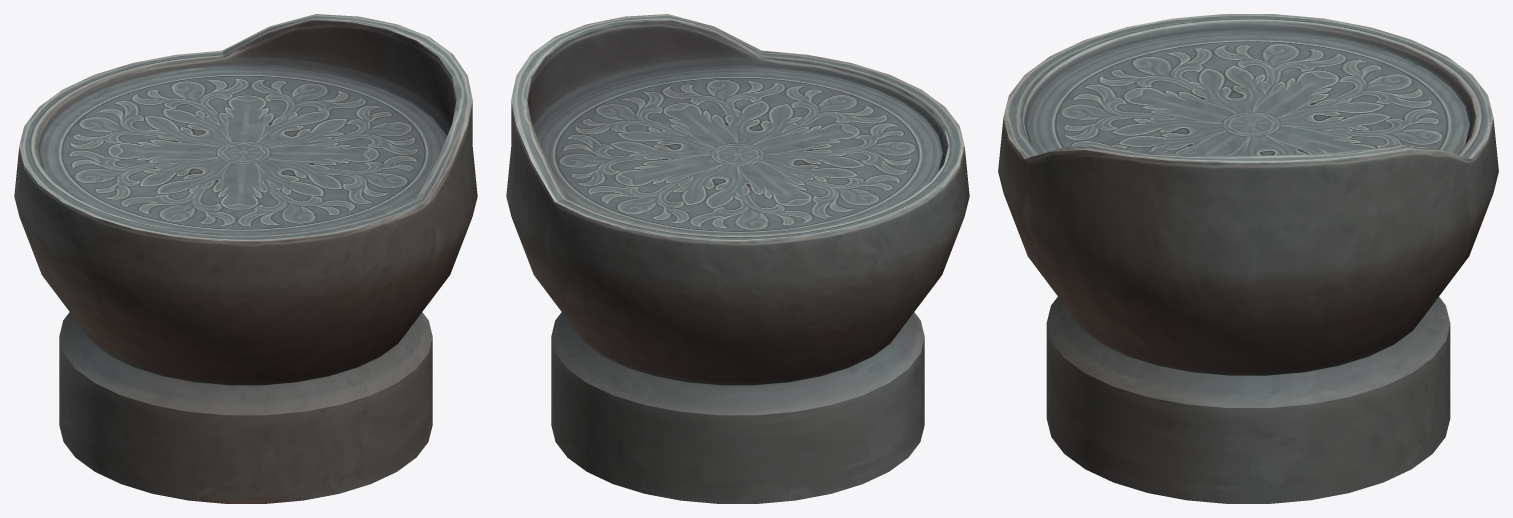
Rendered from SM_Ench_Table.fbx.
3 renders of one model, left to right at view 1: azimuth 30°, elevation 25°; view 2: azimuth 150°, elevation 25°; view 3: azimuth 270°, elevation 25°, orthographic. The views are drawn at different scales.
Visible parts, largest first — view 1: SM_Ench_Table_LOD0; view 2: SM_Ench_Table_LOD0; view 3: SM_Ench_Table_LOD0.
Part boxes in pixels (box(x1,y1,x2,y2)): SM_Ench_Table_LOD0: box(14, 14, 477, 503); SM_Ench_Table_LOD0: box(506, 14, 969, 503); SM_Ench_Table_LOD0: box(998, 14, 1498, 503).
Bounding box in the file's own units: 127 × 128 × 101.
Materials: 1 (1 with a texture image).
